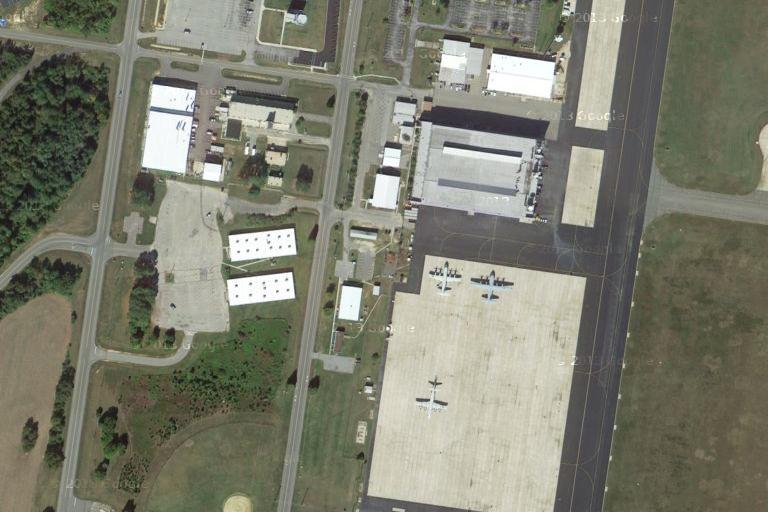C-130: (467, 266, 516, 307)
P-3C: (423, 255, 468, 300), (412, 382, 451, 424)
